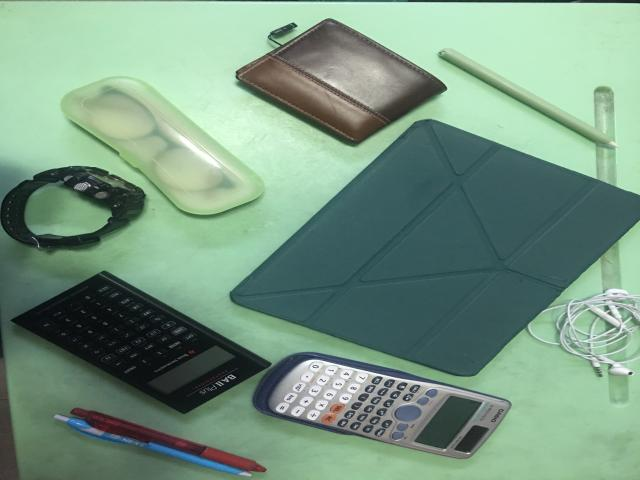Glasses: (60, 76, 265, 215)
Pen: (55, 408, 265, 476)
Wallet: (237, 19, 447, 142)
Watch: (2, 166, 145, 250)
wire: (527, 289, 640, 376)
